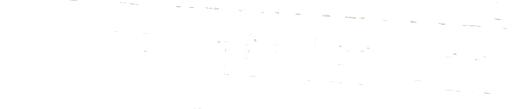letter: (16, 15, 46, 66), (324, 33, 352, 86), (468, 45, 496, 96), (100, 20, 128, 71), (156, 23, 184, 74), (352, 36, 380, 87), (381, 39, 409, 90), (410, 41, 438, 92), (240, 28, 266, 79), (268, 31, 294, 82), (298, 32, 324, 83), (440, 43, 466, 94), (46, 17, 72, 66), (128, 22, 154, 71), (74, 18, 98, 69), (212, 27, 234, 78), (186, 24, 206, 75)
